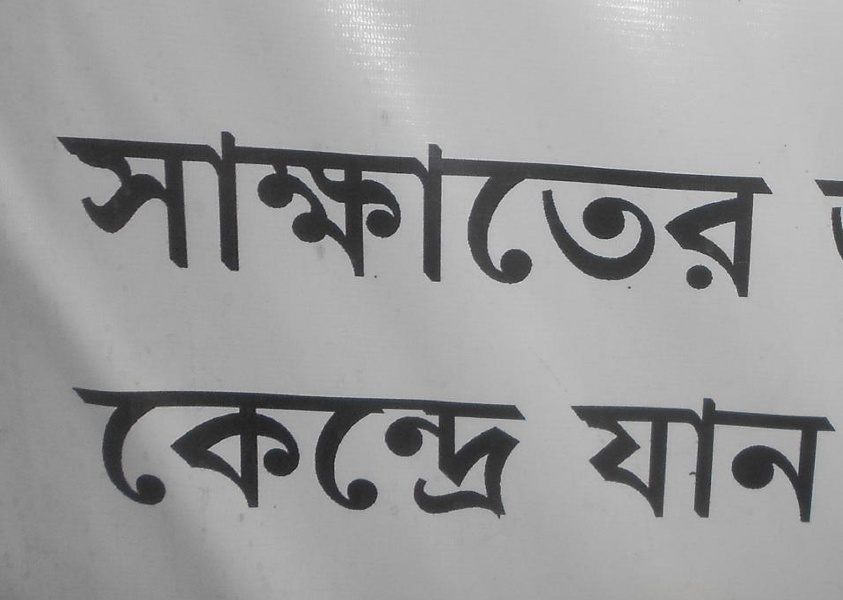text: (65, 116, 80, 307), (81, 116, 96, 307), (97, 116, 112, 307), (113, 116, 128, 307), (129, 116, 144, 307), (145, 116, 160, 307), (161, 116, 176, 307), (177, 116, 192, 307), (193, 116, 208, 307), (209, 116, 224, 307), (225, 116, 240, 307), (241, 116, 256, 307), (257, 116, 272, 307), (273, 116, 288, 307), (289, 116, 304, 307), (305, 116, 320, 307), (321, 116, 336, 307), (337, 116, 352, 307), (353, 116, 368, 307), (369, 116, 384, 307), (385, 116, 400, 307), (401, 116, 416, 307), (417, 116, 432, 307), (433, 116, 448, 307), (449, 116, 464, 307), (465, 116, 480, 307), (481, 116, 496, 307), (497, 116, 512, 307), (513, 116, 528, 307), (529, 116, 544, 307), (545, 116, 560, 307), (561, 116, 576, 307), (577, 116, 592, 307), (593, 116, 608, 307), (609, 116, 624, 307), (625, 116, 640, 307), (641, 116, 656, 307), (657, 116, 672, 307), (673, 116, 688, 307), (689, 116, 704, 307), (705, 116, 720, 307), (721, 116, 736, 307), (737, 116, 752, 307), (753, 116, 768, 307), (769, 116, 782, 307), (81, 382, 96, 526), (97, 382, 112, 526), (113, 382, 128, 526), (129, 382, 144, 526), (145, 382, 160, 526), (161, 382, 176, 526), (177, 382, 192, 526), (193, 382, 208, 526), (209, 382, 224, 526), (225, 382, 240, 526), (241, 382, 256, 526), (257, 382, 272, 526), (273, 382, 288, 526), (289, 382, 304, 526), (305, 382, 320, 526), (321, 382, 336, 526), (337, 382, 352, 526), (353, 382, 368, 526), (369, 382, 384, 526), (385, 382, 400, 526), (401, 382, 416, 526), (417, 382, 432, 526), (433, 382, 448, 526), (449, 382, 464, 526), (465, 382, 480, 526), (481, 382, 496, 526), (497, 382, 512, 526), (513, 382, 528, 526), (577, 394, 592, 531), (593, 394, 608, 531), (609, 394, 624, 531), (625, 394, 640, 531), (641, 394, 656, 531), (657, 394, 672, 531), (673, 394, 688, 531), (689, 394, 704, 531), (705, 394, 720, 531), (721, 394, 736, 531), (737, 394, 752, 531), (753, 394, 768, 531), (769, 394, 784, 531), (785, 394, 800, 531), (801, 394, 816, 531), (817, 394, 832, 531), (57, 116, 64, 307), (529, 382, 538, 526), (833, 394, 842, 531), (817, 178, 832, 255), (73, 382, 80, 526), (833, 178, 841, 255), (574, 394, 576, 531), (814, 178, 816, 255)
